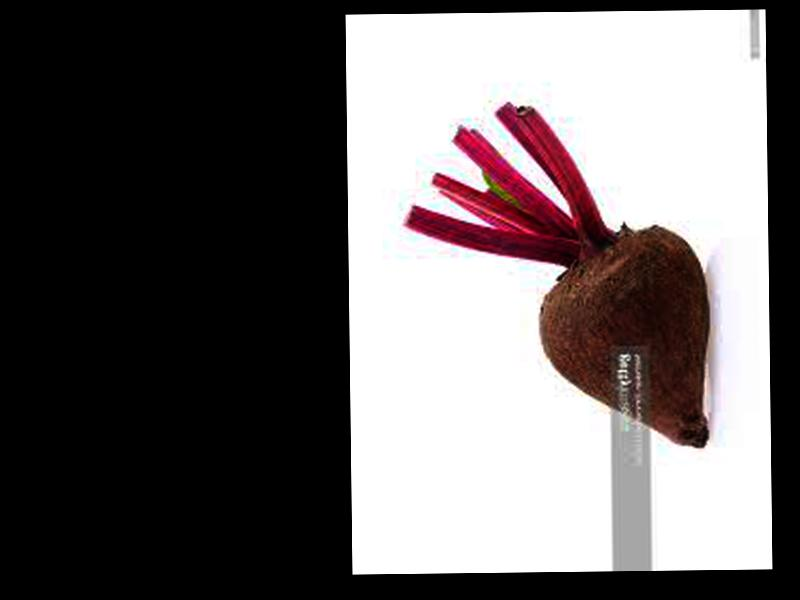Beet: (404, 100, 709, 451)
